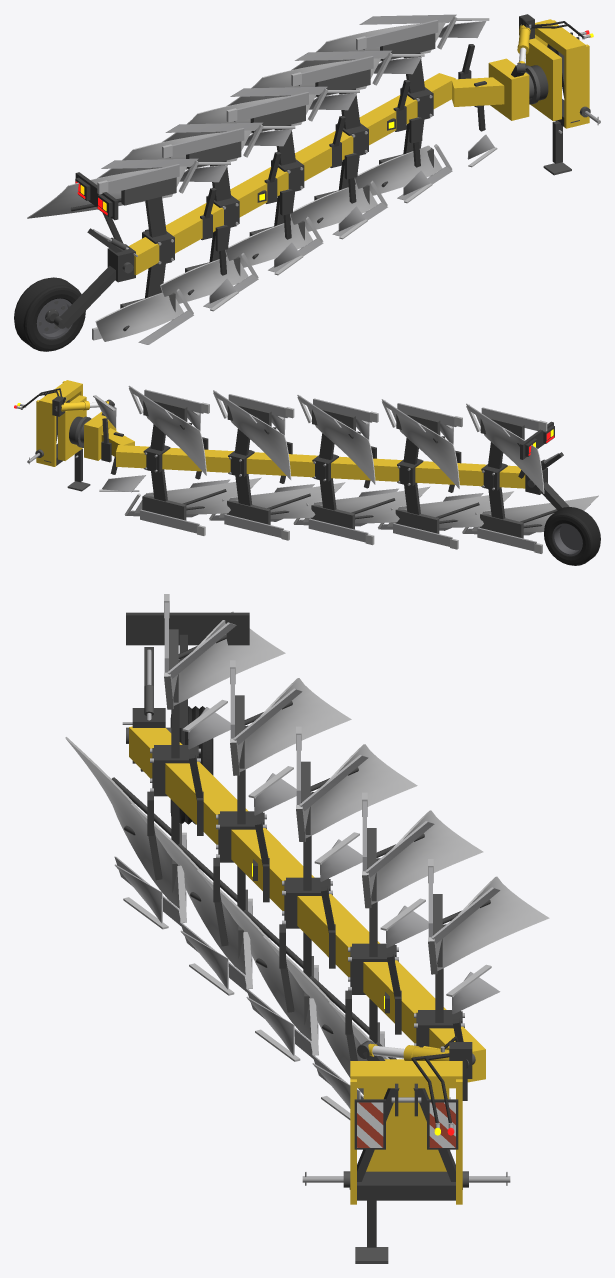
Rendered from reversible_plough.glb.
3 views of the same model, one above another, from view 1: azimuth 30°, elevation 25°; view 2: azimuth 150°, elevation 25°; view 3: azimuth 270°, elevation 25° (orthographic). The views are drawn at different scales.
Visible parts, largest first — view 1: beam_rotate, headstock, depth_wheel_spin, depth_wheel_arm_tilt; view 2: beam_rotate, headstock, depth_wheel_spin, depth_wheel_arm_tilt, turnover_cylinder_rotate; view 3: beam_rotate, headstock, depth_wheel_spin.
Part boxes in pixels (x1,y1,x2,y2): beam_rotate: (27, 14, 534, 344); headstock: (519, 14, 600, 175); depth_wheel_spin: (14, 277, 85, 351); depth_wheel_arm_tilt: (53, 228, 133, 328); beam_rotate: (80, 385, 598, 553); headstock: (14, 380, 91, 491); depth_wheel_spin: (544, 507, 600, 565); depth_wheel_arm_tilt: (527, 452, 569, 510); turnover_cylinder_rotate: (54, 401, 89, 411); beam_rotate: (65, 594, 549, 1150); headstock: (302, 1036, 510, 1263); depth_wheel_spin: (170, 706, 213, 824).
Size of the model in its own units: 7.26 by 1.72 by 2.94.
13 materials, 13 textured.
